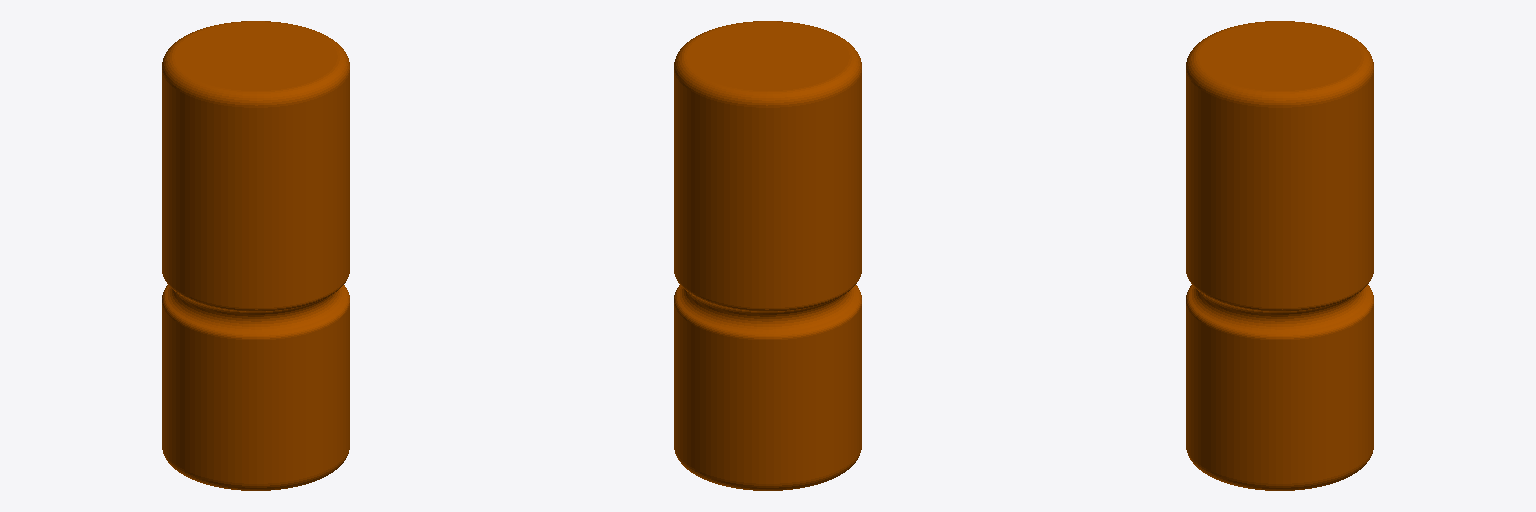
Rendered from grand-rond-jaune.obj.
3 views of the same model, side by side, from view 1: azimuth 30°, elevation 25°; view 2: azimuth 150°, elevation 25°; view 3: azimuth 270°, elevation 25° (orthographic).
Visible parts, largest first — view 1: quarto-pieces.001; view 2: quarto-pieces.001; view 3: quarto-pieces.001.
Boxes of the visible parts, <box> form: quarto-pieces.001: <box>162,21,349,490</box>; quarto-pieces.001: <box>674,21,861,490</box>; quarto-pieces.001: <box>1186,21,1373,490</box>.
Size of the model in its own units: 29.98 by 70 by 29.98.